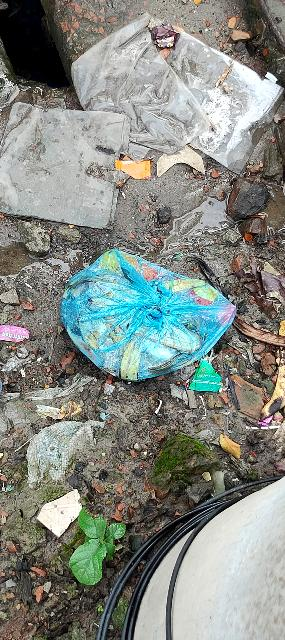polythene: (68, 234, 235, 380)
